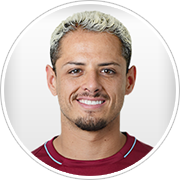face: (42, 42, 139, 125)
